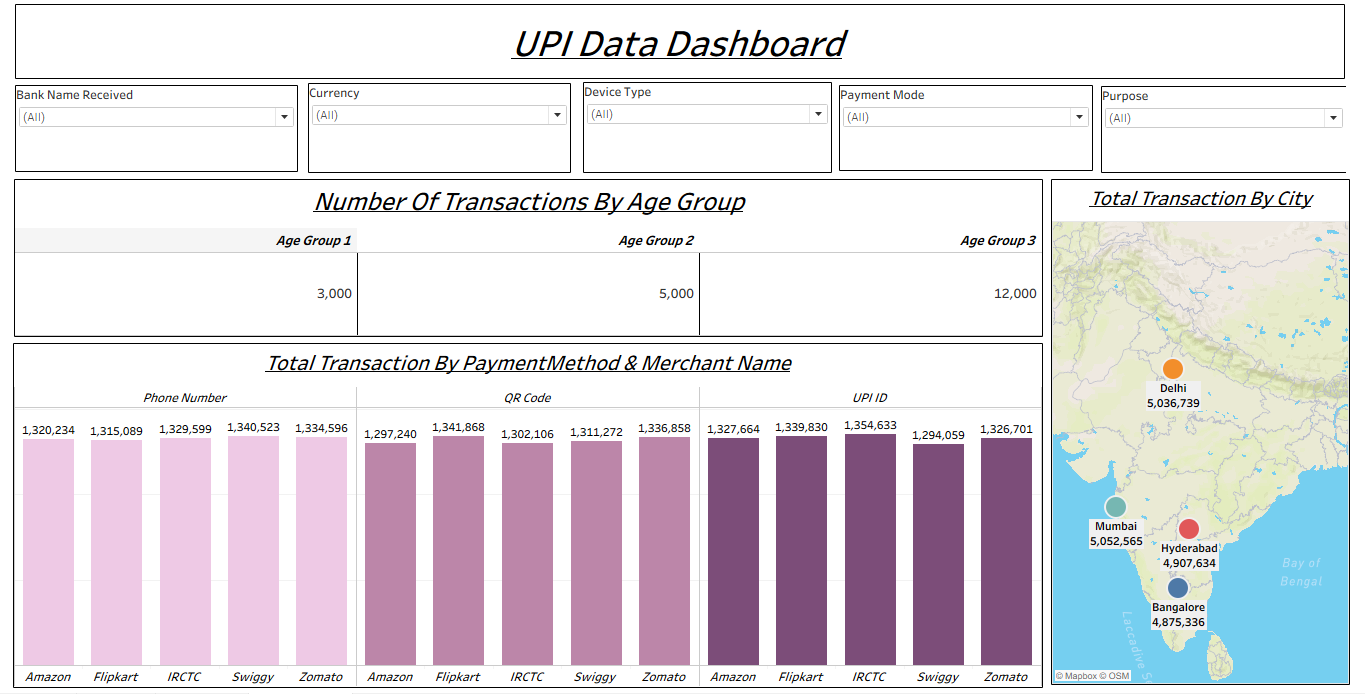

The page's visual inventory and layout, read from the dashboard file:
{"tool":"tableau","page":{"name":"Dashboard 1","canvas":[1000,1000],"units":"permille","ordinal":0},"visuals":[{"type":"text","box":[11.4,12.5,977.2,107.1]},{"type":"filter","title":"Coulmn Chart","param":"[federated.14dzlkc178ouhi14nc3qs15ff46u].[none:DeviceType:nk]","box":[426.8,125,182.3,130.4]},{"type":"filter","title":"Coulmn Chart","param":"[federated.14dzlkc178ouhi14nc3qs15ff46u].[none:Currency:nk]","box":[225.2,126.8,192.8,128.6]},{"type":"filter","title":"Coulmn Chart","param":"[federated.14dzlkc178ouhi14nc3qs15ff46u].[none:BankNameReceived:nk]","box":[10.5,128.6,207.7,128.6]},{"type":"filter","title":"Coulmn Chart","param":"[federated.14dzlkc178ouhi14nc3qs15ff46u].[none:PaymentMode:nk]","box":[614.4,128.6,185.8,128.6]},{"type":"filter","title":"Coulmn Chart","param":"[federated.14dzlkc178ouhi14nc3qs15ff46u].[none:Purpose:nk]","box":[805.4,130.4,184.1,125]},{"type":"worksheet","title":"Card Visual","mark":"Automatic","cols":["Calculation_0975029174136832"],"box":[8.8,264.3,752.9,226.8]},{"type":"worksheet","title":"Map Visual","mark":"Automatic","box":[769.5,264.3,226.1,725]},{"type":"worksheet","title":"Coulmn Chart","mark":"Automatic","rows":["Amount"],"cols":["PaymentMethod","MerchantName"],"box":[9.6,505.4,753.7,487.5]}]}

Visuals, with their boxes on the dashboard's canvas, which has no fixed pixel size, in thousandths of its width and height (x1, y1, x2, y2). These are canvas units, not pixel positions in the 1365x694 screenshot, which may show the page scaled, cropped or inside an application window:
text: (x1=11, y1=12, x2=989, y2=120)
"Coulmn Chart" filter: (x1=427, y1=125, x2=609, y2=255)
"Coulmn Chart" filter: (x1=225, y1=127, x2=418, y2=255)
"Coulmn Chart" filter: (x1=10, y1=129, x2=218, y2=257)
"Coulmn Chart" filter: (x1=614, y1=129, x2=800, y2=257)
"Coulmn Chart" filter: (x1=805, y1=130, x2=990, y2=255)
"Card Visual" worksheet: (x1=9, y1=264, x2=762, y2=491)
"Map Visual" worksheet: (x1=770, y1=264, x2=996, y2=989)
"Coulmn Chart" worksheet: (x1=10, y1=505, x2=763, y2=993)
